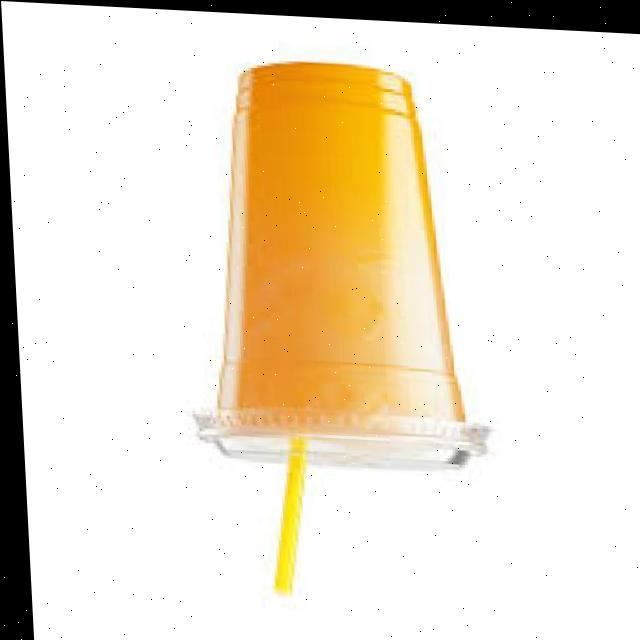cup: (160, 19, 503, 502)
